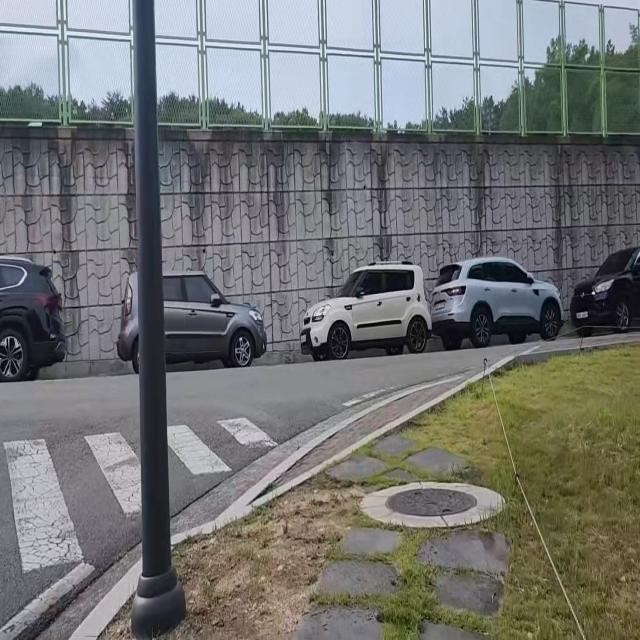obstacle: (128, 0, 188, 640), (0, 246, 71, 388), (566, 227, 640, 341)
road: (0, 345, 533, 640)
sidewalk: (234, 370, 481, 519)
